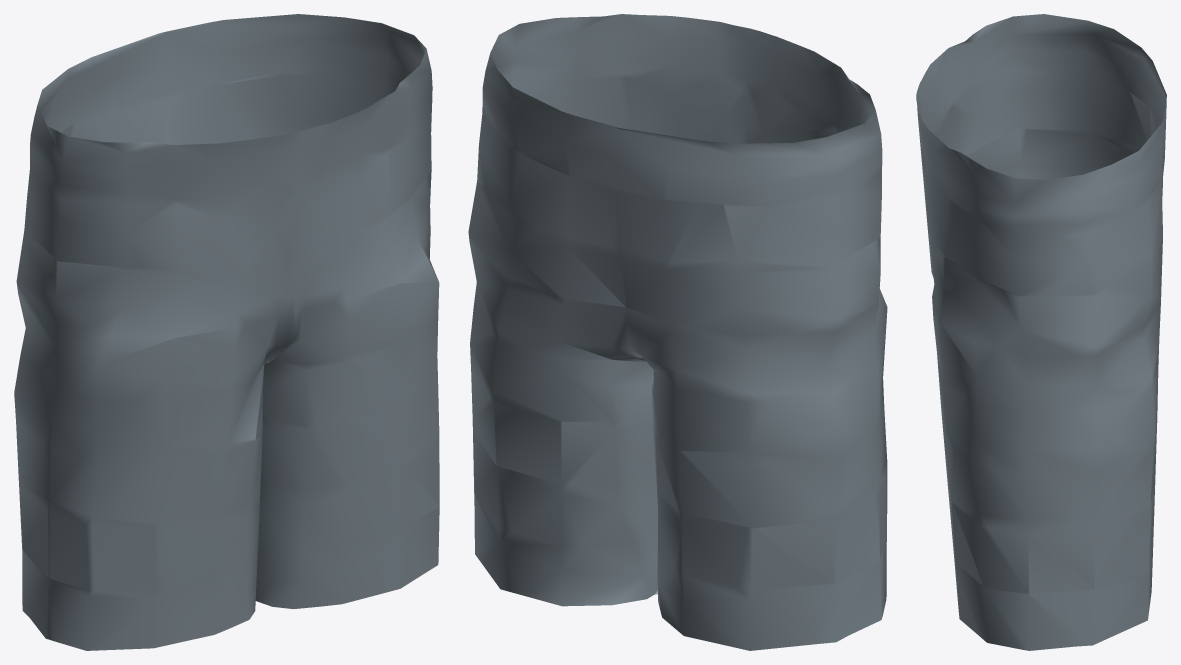
Rendered from shorts-only.glb.
3 views of the same model, side by side, from view 1: azimuth 30°, elevation 25°; view 2: azimuth 150°, elevation 25°; view 3: azimuth 270°, elevation 25° (orthographic). The views are drawn at different scales.
Visible parts, largest first — view 1: Lowerwear_shorts_0; view 2: Lowerwear_shorts_0; view 3: Lowerwear_shorts_0.
Boxes of the visible parts, x1,y1,x2,y2 form: Lowerwear_shorts_0: (14, 14, 439, 650); Lowerwear_shorts_0: (468, 14, 887, 650); Lowerwear_shorts_0: (916, 14, 1166, 650).
Bounding box in the file's own units: 0.957 × 1.19 × 0.58.
